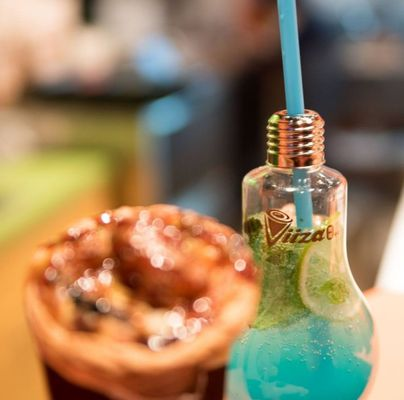burger: (229, 109, 381, 395), (240, 5, 347, 282)
salad: (22, 203, 264, 395)
